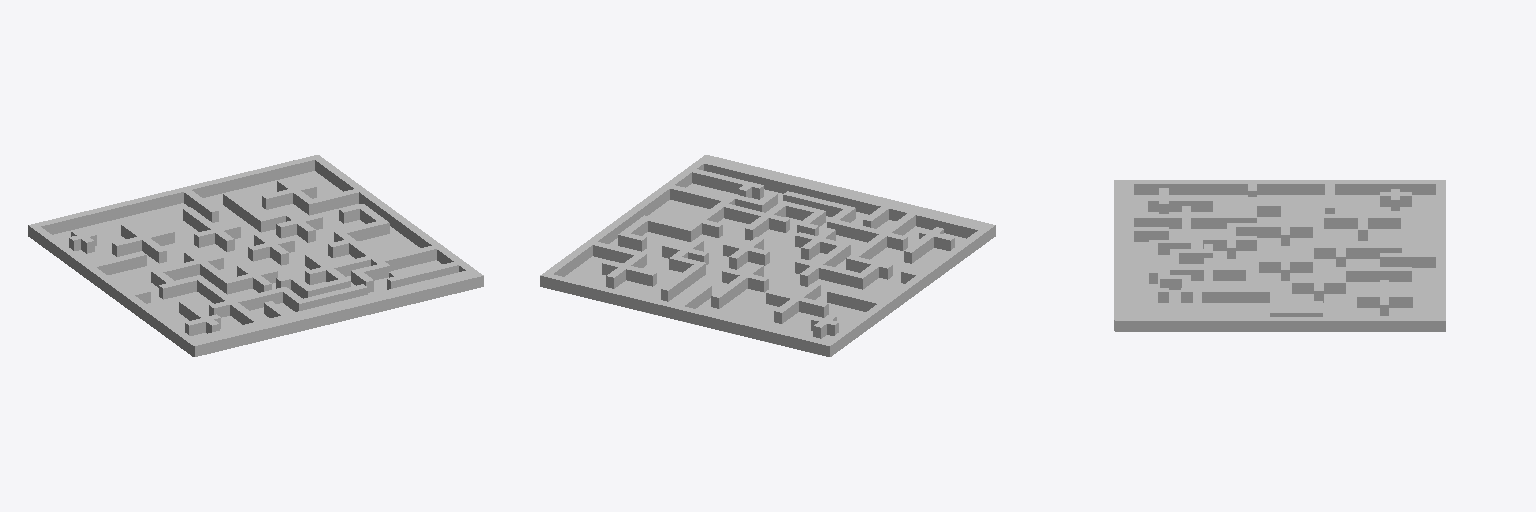
The model's file is level4.obj.
3 views of the same model, side by side, from view 1: azimuth 30°, elevation 25°; view 2: azimuth 150°, elevation 25°; view 3: azimuth 270°, elevation 25° (orthographic).
Visible parts, largest first — view 1: level4; view 2: level4; view 3: level4.
Part boxes in pixels (x1,y1,x2,y2): level4: (28,155,483,356); level4: (540,155,995,356); level4: (1114,180,1445,331).
Size of the model in its own units: 50.54 by 1.85 by 50.04.